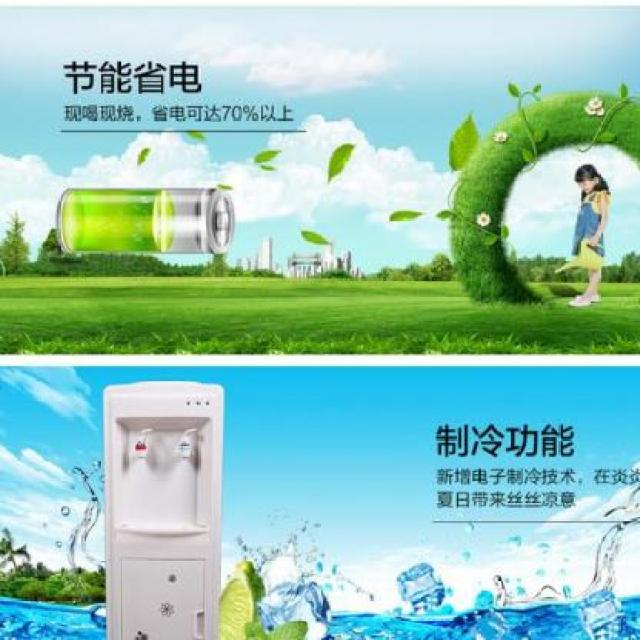cooler: (100, 371, 229, 640)
